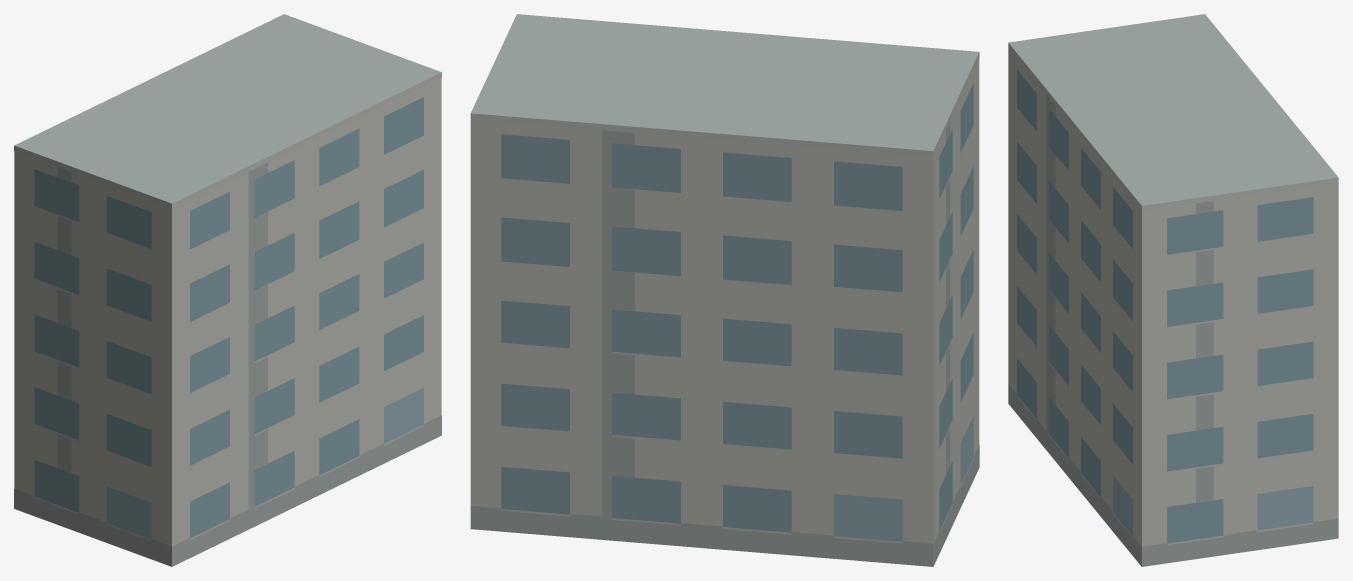
File: survey-upis-33017526.glb
3 views of the same model, side by side, from view 1: azimuth 30°, elevation 25°; view 2: azimuth 150°, elevation 25°; view 3: azimuth 270°, elevation 25° (orthographic). The views are drawn at different scales.
Visible parts, largest first — view 1: survey-upis-33017526.tmp; view 2: survey-upis-33017526.tmp; view 3: survey-upis-33017526.tmp.
Boxes of the visible parts, x1=… form: survey-upis-33017526.tmp: x1=14, y1=14, x2=441, y2=566; survey-upis-33017526.tmp: x1=470, y1=14, x2=979, y2=566; survey-upis-33017526.tmp: x1=1008, y1=14, x2=1338, y2=566.
Bounding box in the file's own units: 18.71 × 16.4 × 13.61.
